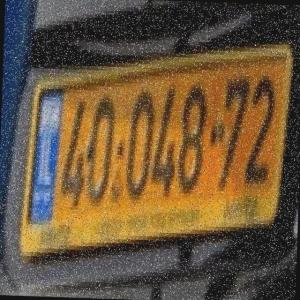Plate: (11, 19, 298, 272)
